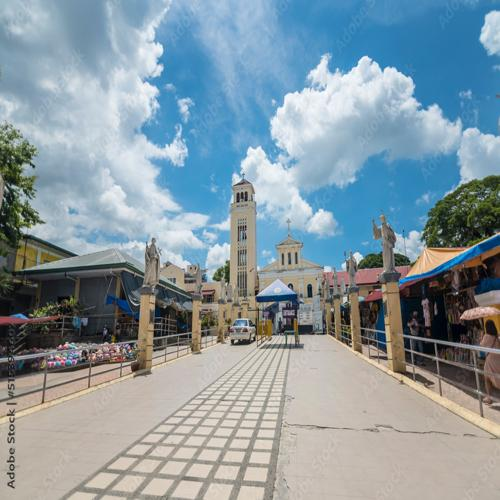Manaoag Church: (216, 169, 329, 307)
